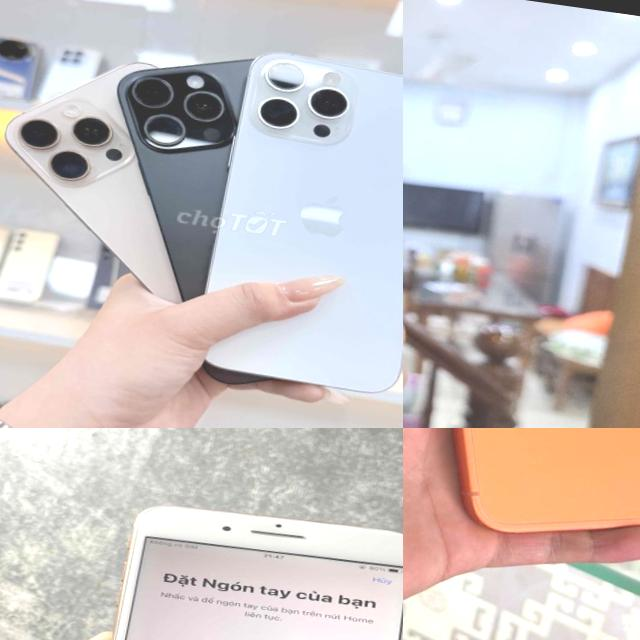gen_16: (182, 43, 403, 408)
gen_17: (403, 428, 640, 568)
gen_7_8: (74, 495, 403, 640)
